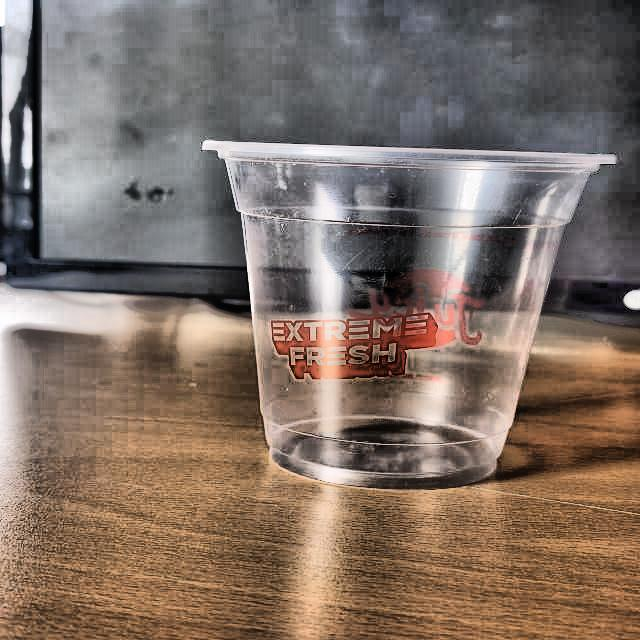plastic cup: (198, 136, 621, 493)
